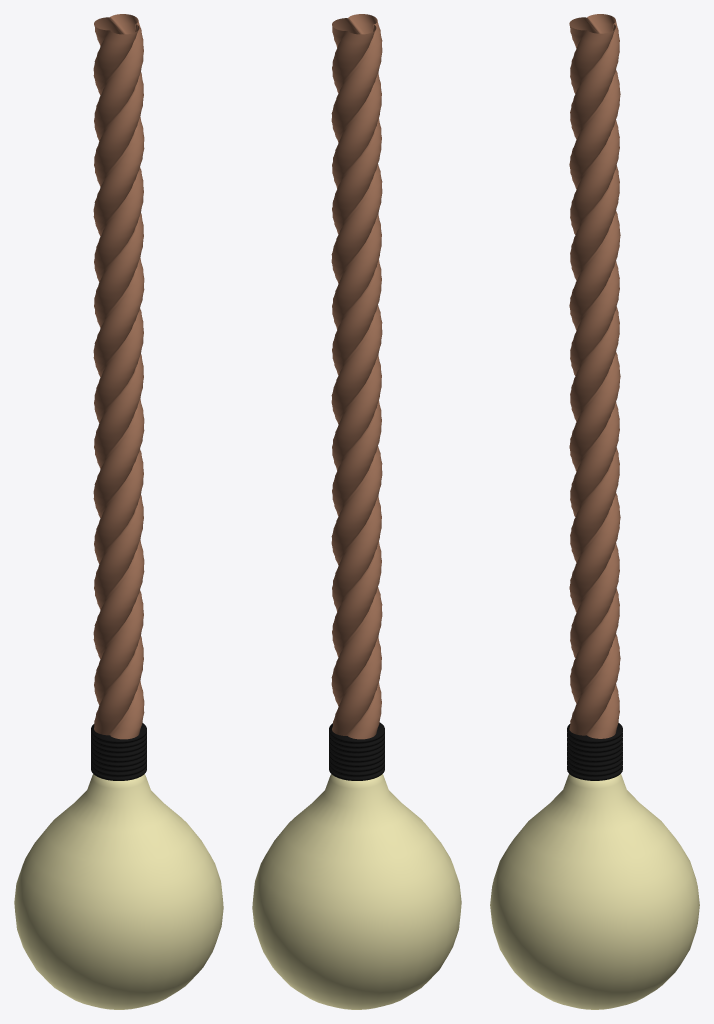
File: BombillaConCuerda.fbx
The picture shows the model from 3 angles, left to right: view 1: azimuth 30°, elevation 25°; view 2: azimuth 150°, elevation 25°; view 3: azimuth 270°, elevation 25°; orthographic projection.
Visible parts, largest first — view 1: Bombilla, Cuerda; view 2: Bombilla, Cuerda; view 3: Bombilla, Cuerda.
Boxes of the visible parts, left/top/right/bottom form: Bombilla: left=14, top=723, right=223, bottom=1009; Cuerda: left=93, top=14, right=144, bottom=739; Bombilla: left=252, top=722, right=461, bottom=1009; Cuerda: left=331, top=14, right=382, bottom=739; Bombilla: left=490, top=723, right=699, bottom=1009; Cuerda: left=569, top=14, right=620, bottom=738.
Bounding box in the file's own units: 200 × 1027 × 200.
